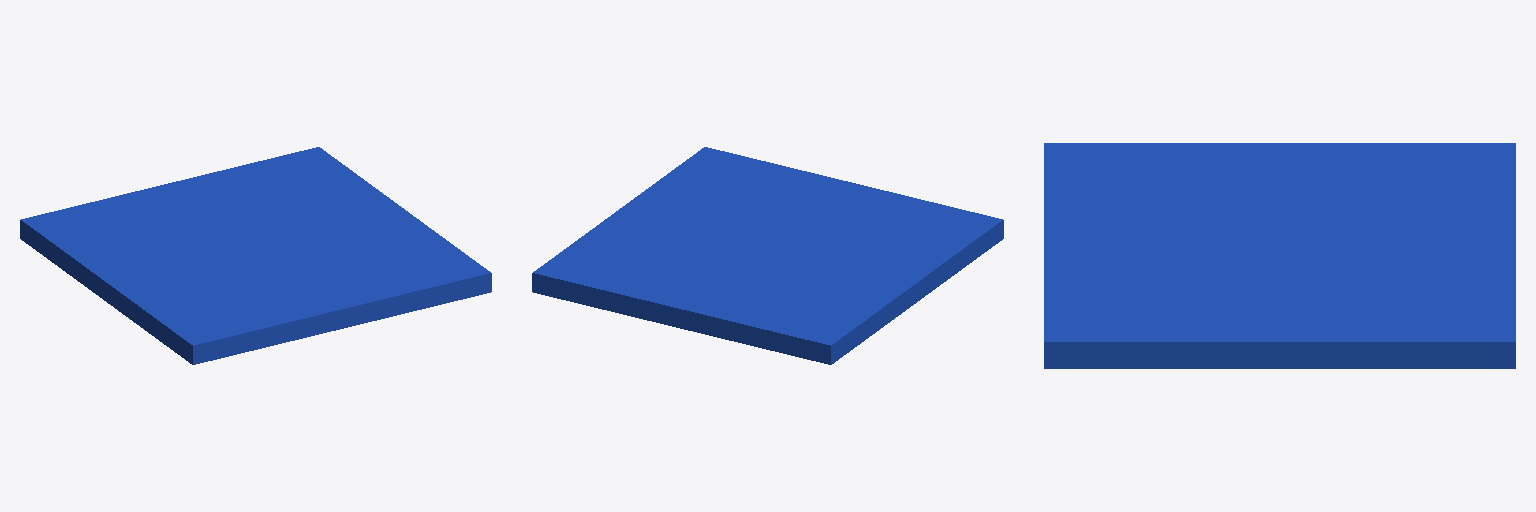
The robot description file, URDF, robot "mat_01":
<robot name="mat_01">
  <material name="paint"><color rgba="0.2 0.4 0.8 1" /></material>
  <link name="base">
    <inertial><origin xyz="0 0 0" rpy="0 0 0" /><mass value="2" /><inertia ixx="0.01" ixy="0" ixz="0" iyy="0.01" iyz="0" izz="0.01" /></inertial>
    <visual name="top"><origin xyz="0 0 0.005" rpy="0 0 0" /><geometry><box size="0.16 0.16 0.01" /></geometry><material name="paint" /></visual>
    <collision name="top"><origin xyz="0 0 0.005" rpy="0 0 0" /><geometry><box size="0.16 0.16 0.01" /></geometry></collision>
  </link>
</robot>

--- Render facts (derived) ---
3 views of the same robot in one strip: view 1: azimuth 30°, elevation 25°; view 2: azimuth 150°, elevation 25°; view 3: azimuth 270°, elevation 25° (orthographic).
Robot: mat_01 — 1 links, 0 joints (none); root link base; default pose: all joints at 0.
Links seen in each view (by area): view 1: base; view 2: base; view 3: base.
Boxes of the visible links, x1=… form: base: x1=20, y1=147, x2=491, y2=364; base: x1=532, y1=147, x2=1003, y2=364; base: x1=1044, y1=143, x2=1515, y2=368.
Bounding box of the posed robot: 0.16 × 0.16 × 0.01 m (x, y, z).
Geometry: primitives only (box / cylinder / sphere), no mesh files.
